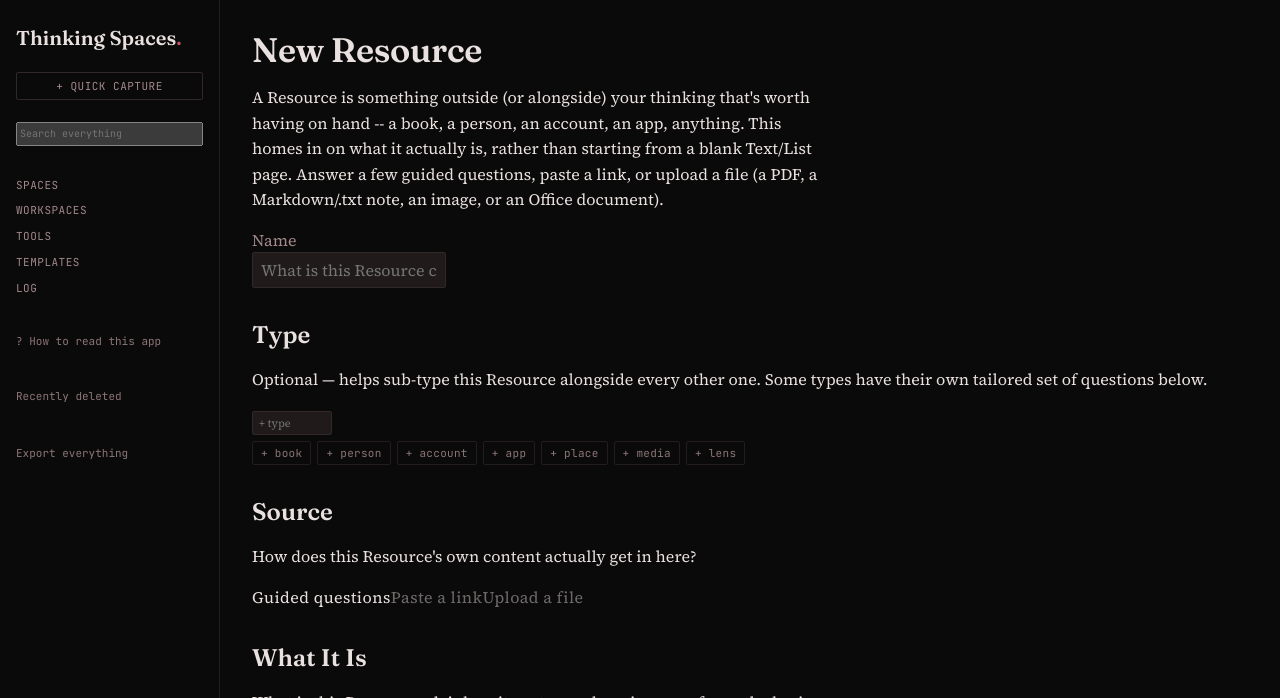
Test: CreateResource: Source -- paste a link › disables submit until a URL is entered
The image size is (1280, 698).
Click the button "Paste a link". click: (437, 598)
box: [391,585,482,611]
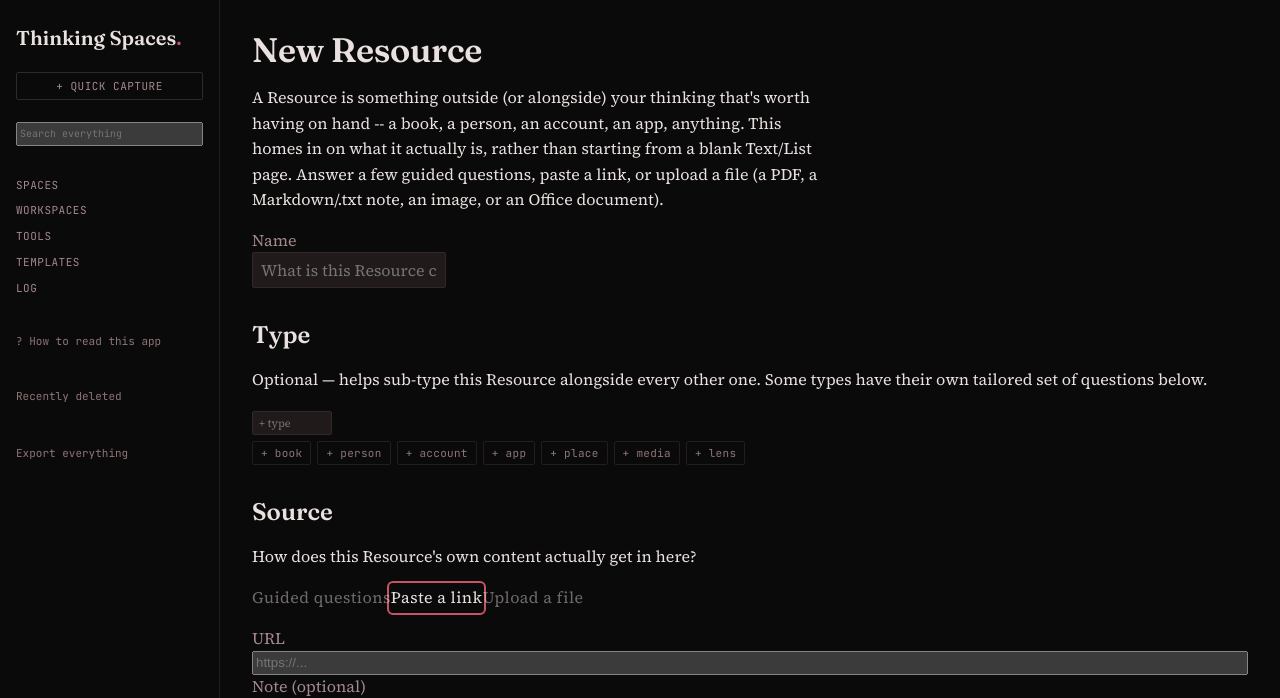
Type "A Link" into the field with placeholder "What is this Resource called?". click: (349, 270)
box: [252,252,446,288]
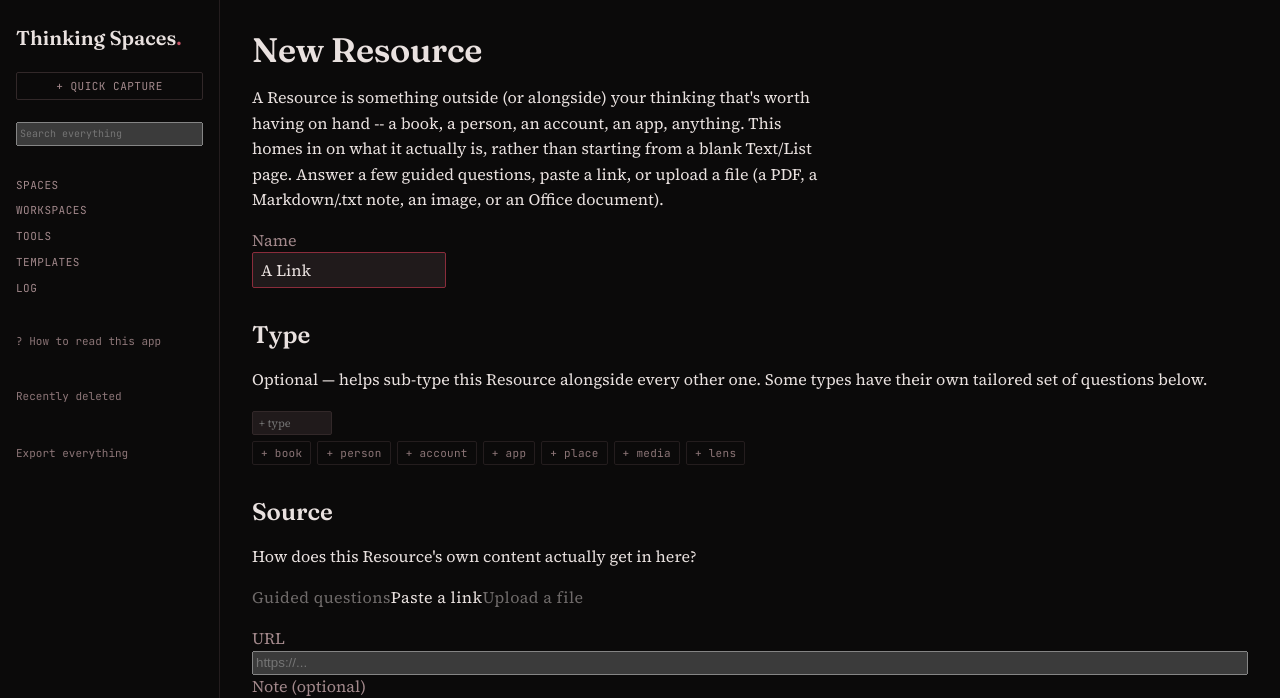
Type "https://example.com" into the field labelled "URL". click: (750, 663)
box: [252,651,1248,675]
(page scrolled)
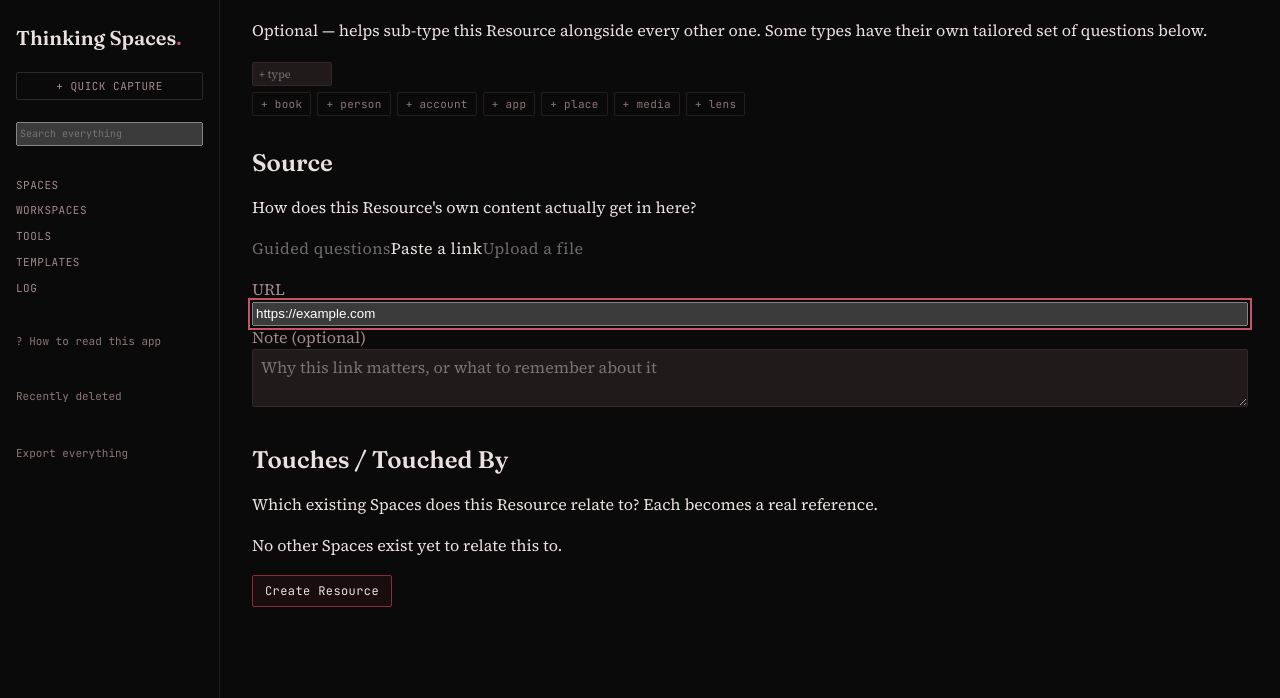
Expected: the button "Create Resource" is enabled, [252,575,392,607]
